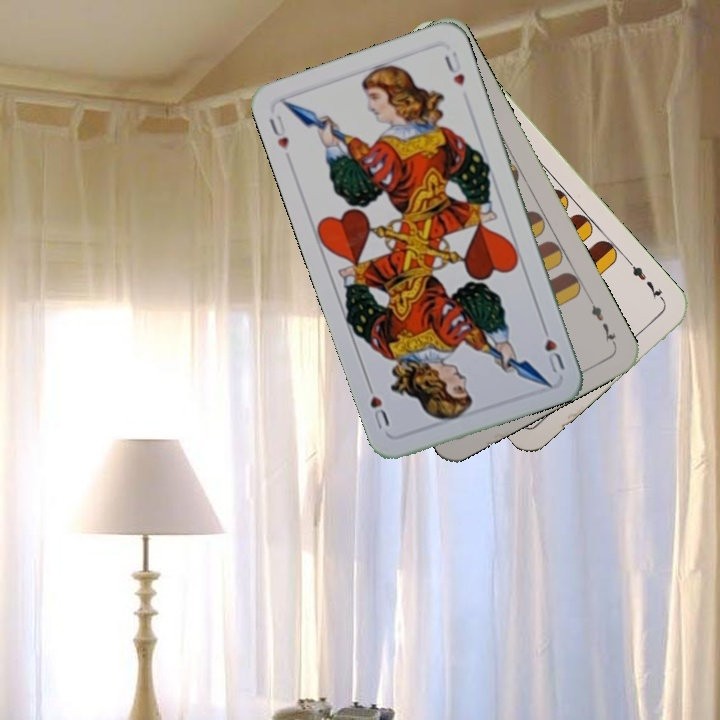E7: (624, 257, 668, 306), (585, 294, 619, 349)
HU: (537, 319, 567, 376), (264, 111, 292, 153)
